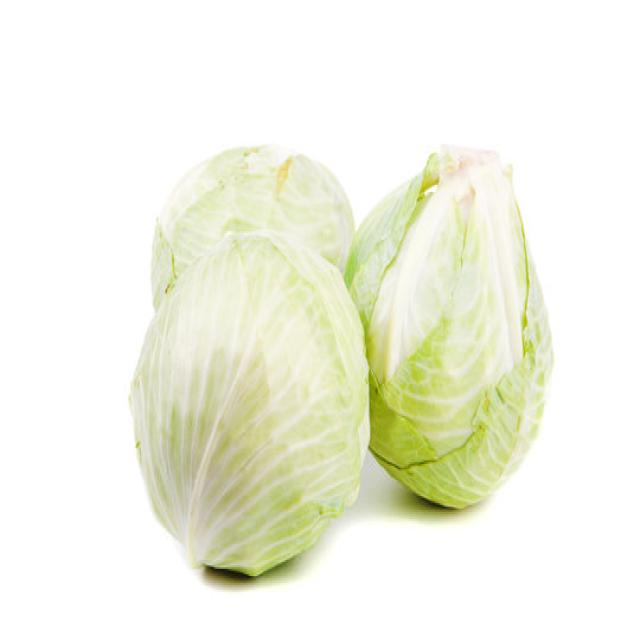Cabbage: (128, 226, 371, 578), (342, 142, 554, 510), (150, 143, 354, 310)
